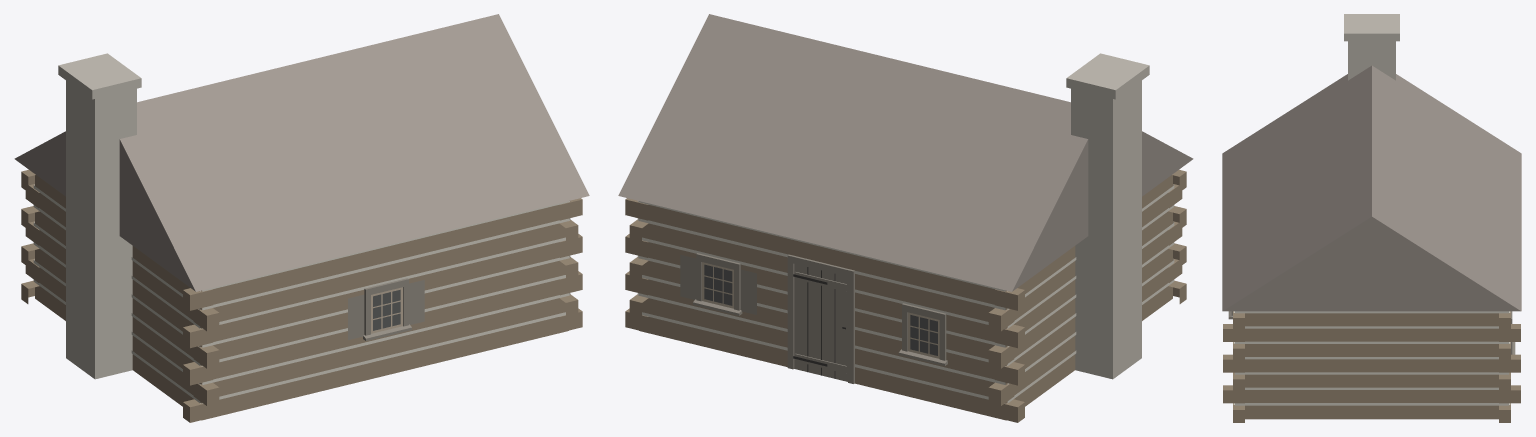
File: clybourn_cabins__log_1824.glb
3 renders of one model, left to right at view 1: azimuth 30°, elevation 25°; view 2: azimuth 150°, elevation 25°; view 3: azimuth 270°, elevation 25°, orthographic. The views are drawn at different scales.
Parts seen in each view (by area): view 1: clybourn_cabins__log_1824; view 2: clybourn_cabins__log_1824; view 3: clybourn_cabins__log_1824.
Part boxes in pixels (x1,y1,x2,y2): clybourn_cabins__log_1824: (14,14,589,422); clybourn_cabins__log_1824: (618,14,1193,422); clybourn_cabins__log_1824: (1222,14,1521,422).
Bounding box in the file's own units: 8.07 × 5.32 × 6.
